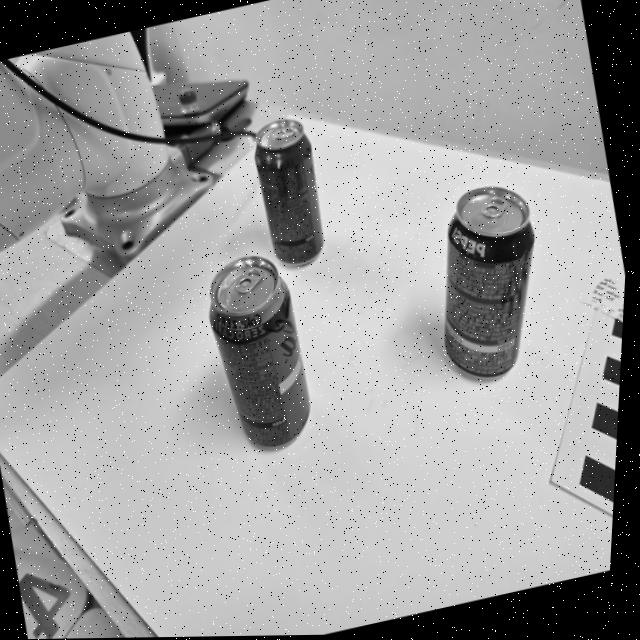can_coke_decaf: (207, 253, 310, 444)
can_coke_zero: (255, 120, 323, 266)
can_pepsi: (444, 188, 534, 376)
